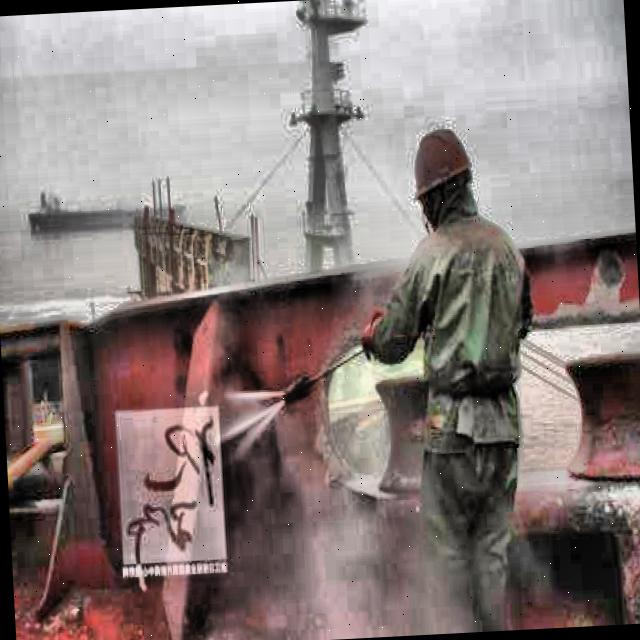helmet: (407, 114, 484, 248)
